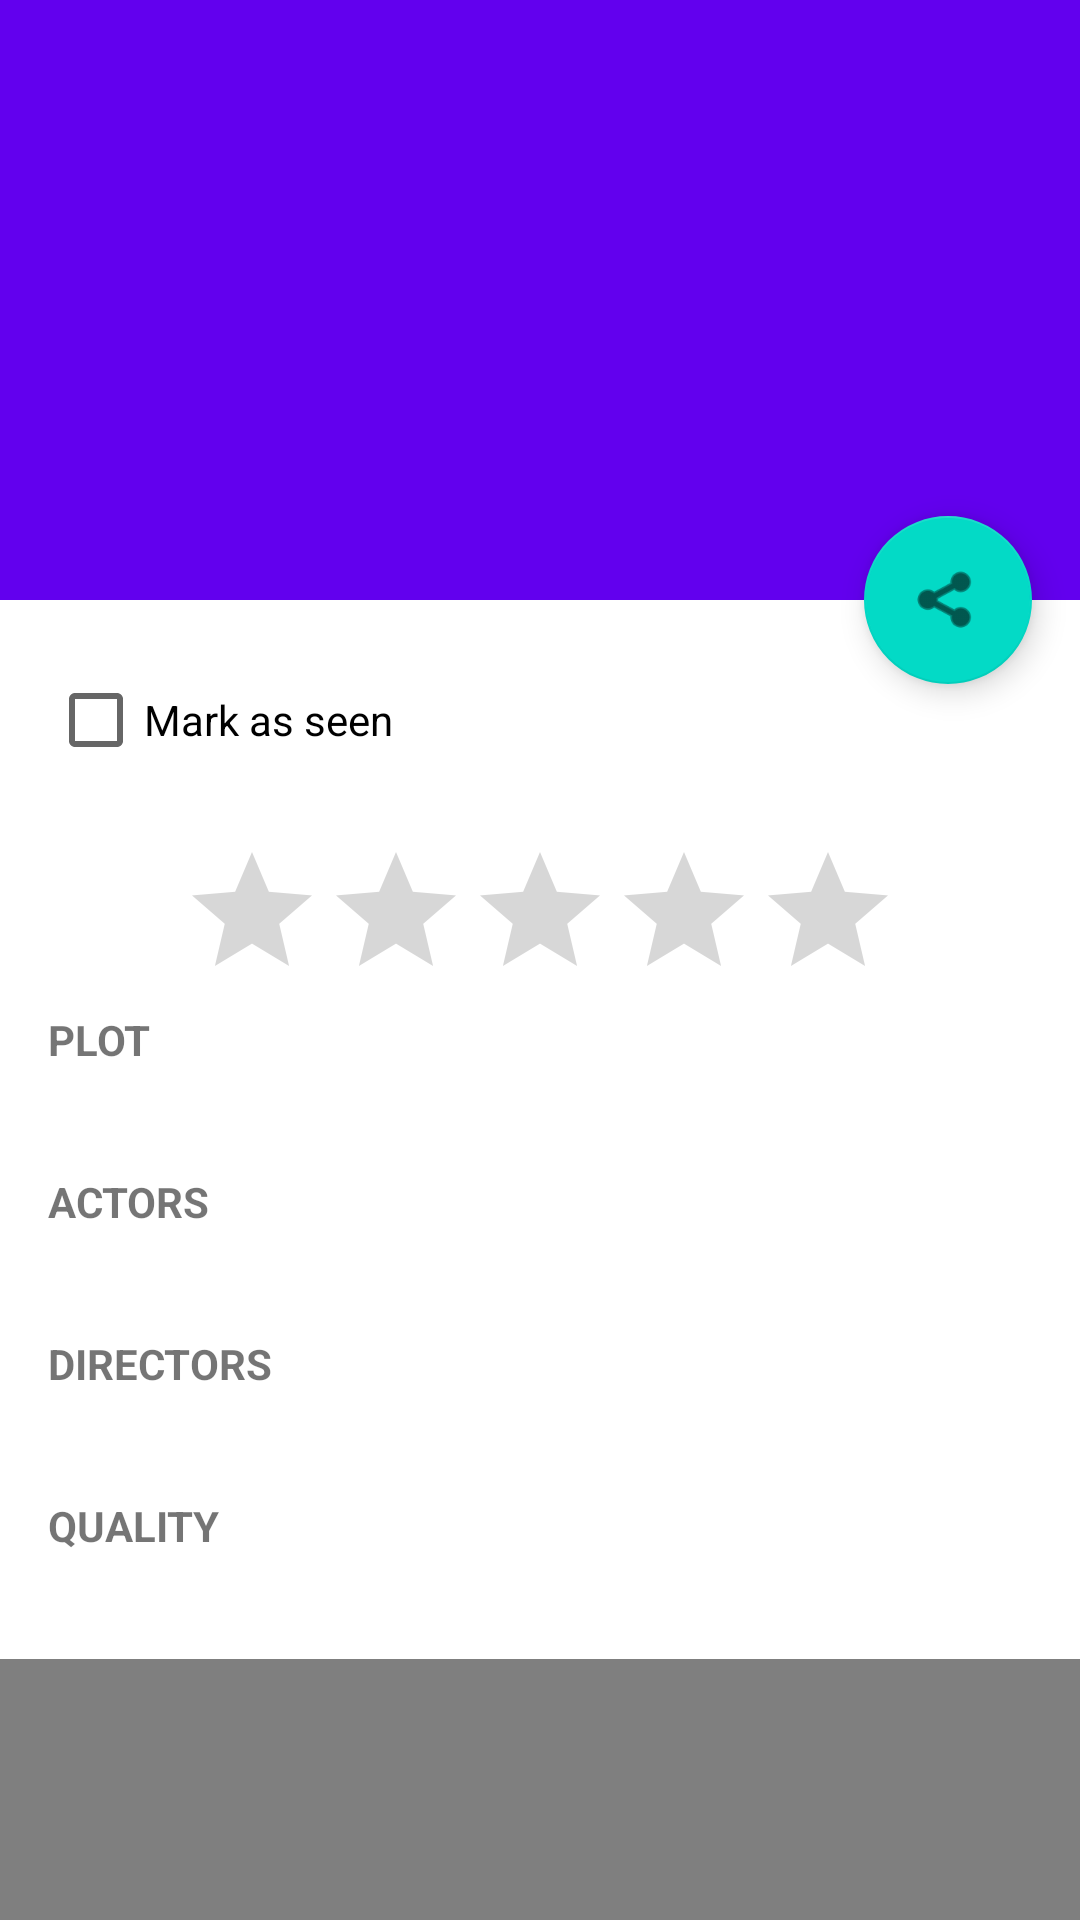

Icon click points for this 1080*1920 phone screenshot, format (x=x, y=y):
share: (x=948, y=600)
